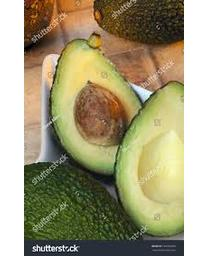avocado: (48, 38, 147, 179), (113, 79, 184, 237)
